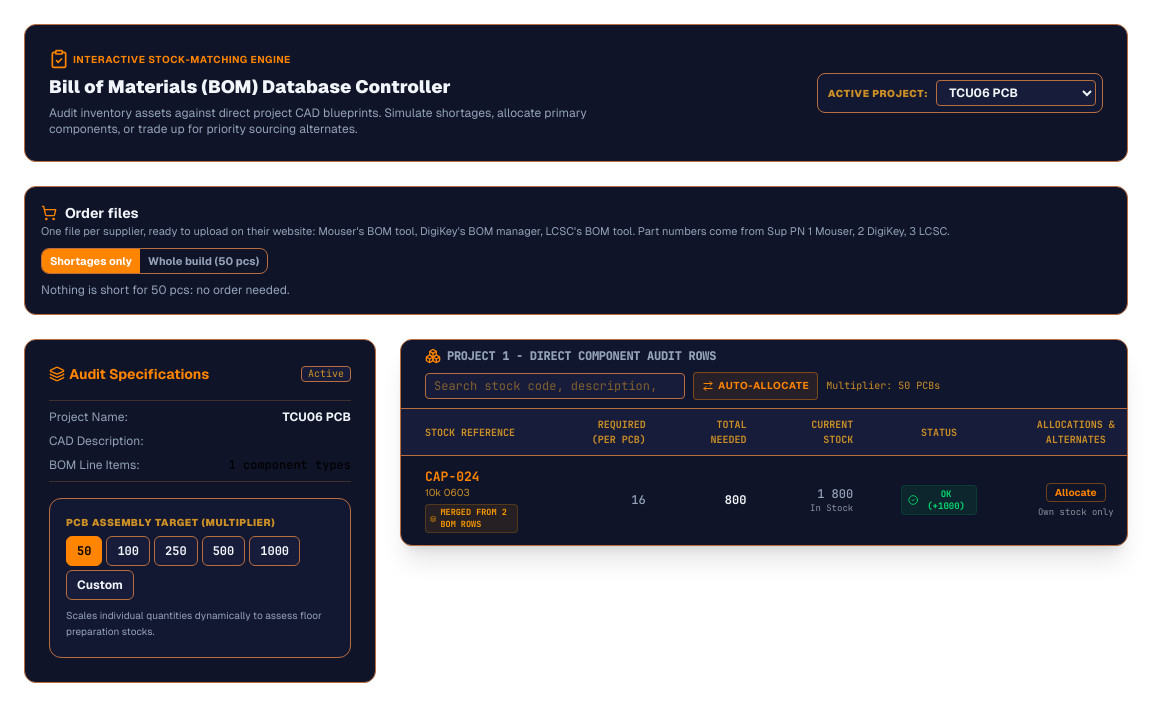
Test: Bill of Materials allocations › shows a part the BOM lists twice as one line, with its quantities added
Click the button "1000".
click(275, 551)  # box [249, 536, 300, 566]
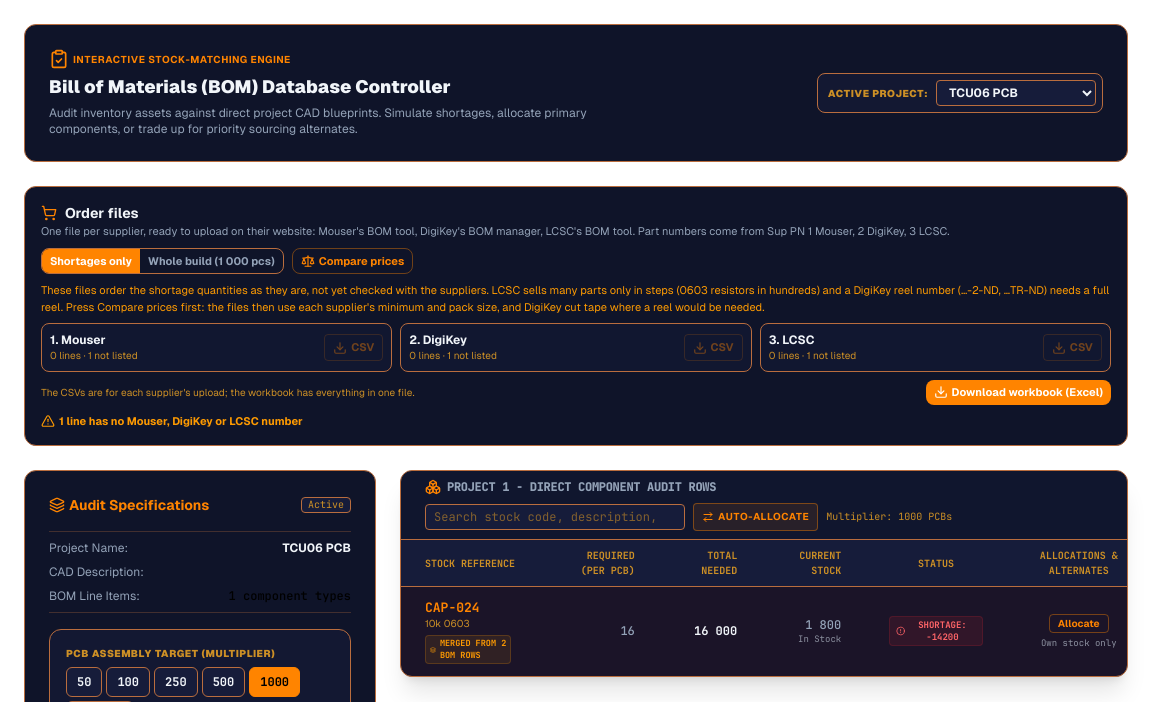
Check: the text "Merged from 2 BOM rows" is shown, box [425, 635, 511, 664]
Check: the text "SHORTAGE: -14200" is shown, box [889, 616, 982, 646]
